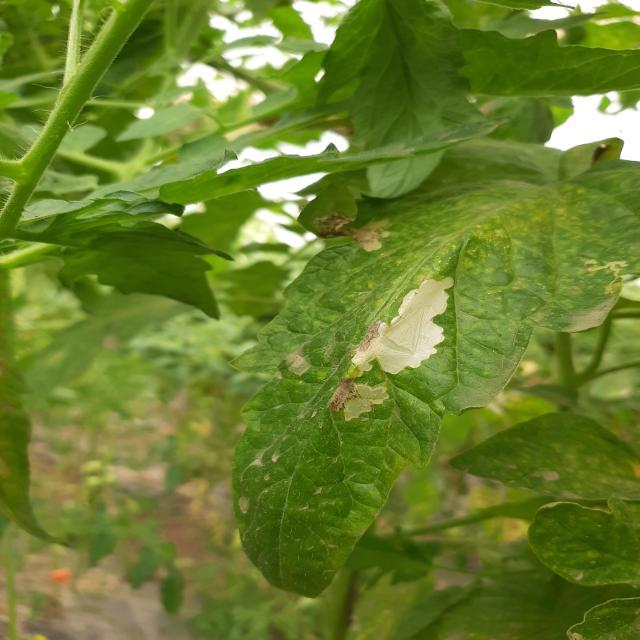Tuta absoluta: (348, 263, 480, 400), (334, 374, 391, 422), (583, 253, 628, 279)
